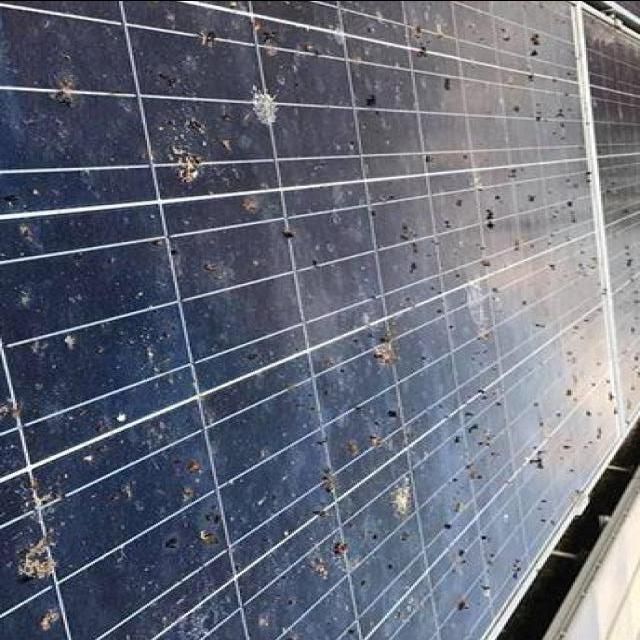soiled: (0, 0, 622, 638)
